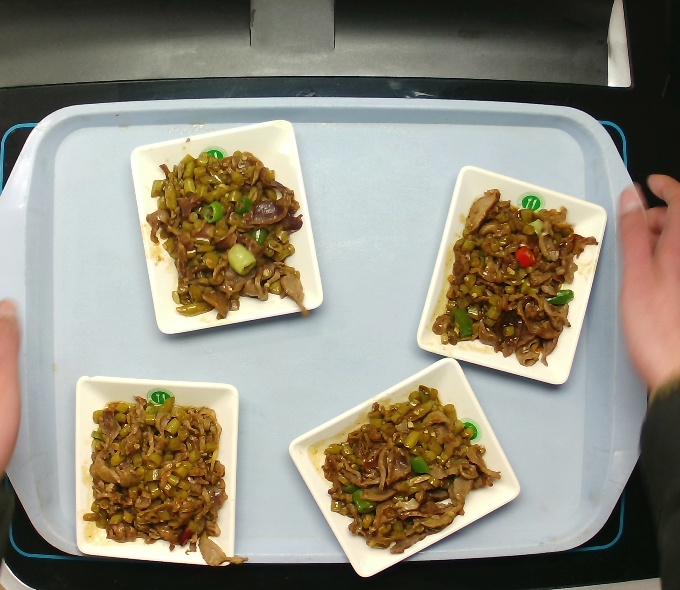wcq-JiZhen: (316, 381, 504, 559), (429, 183, 601, 370), (140, 145, 314, 327), (81, 392, 251, 569)
